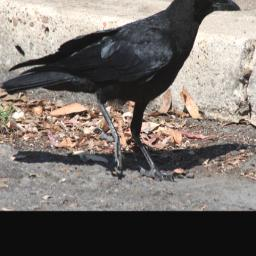Crow: (2, 0, 242, 179)
